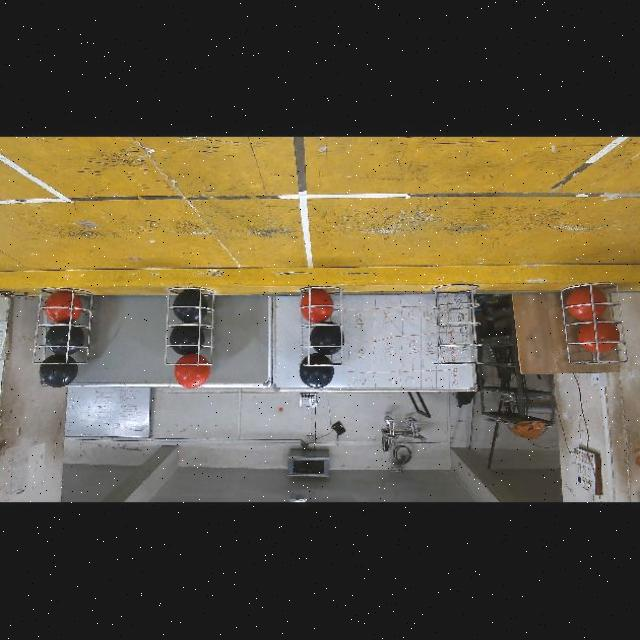P: (39, 355, 78, 389), (45, 324, 85, 356), (299, 353, 334, 389), (174, 290, 209, 324), (311, 323, 345, 356), (168, 326, 204, 356)
R: (567, 287, 608, 322), (577, 321, 620, 352), (174, 353, 210, 388), (44, 291, 82, 324), (301, 290, 334, 324)
S: (560, 282, 630, 368), (31, 286, 95, 368), (162, 286, 220, 368), (431, 284, 484, 366), (298, 285, 344, 369)
